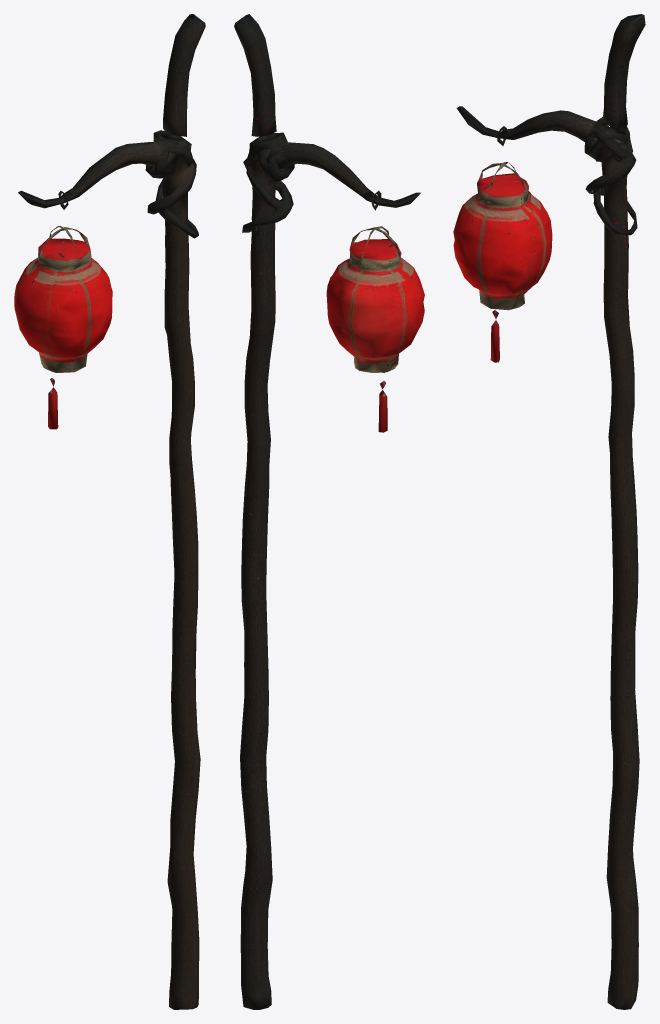
File: lantern-post.glb
3 views of the same model, side by side, from view 1: azimuth 30°, elevation 25°; view 2: azimuth 150°, elevation 25°; view 3: azimuth 330°, elevation 25° (orthographic).
Size of the model in its own units: 0.3712 by 1.9 by 0.1773.
Materials: 1 (1 with a texture image).
